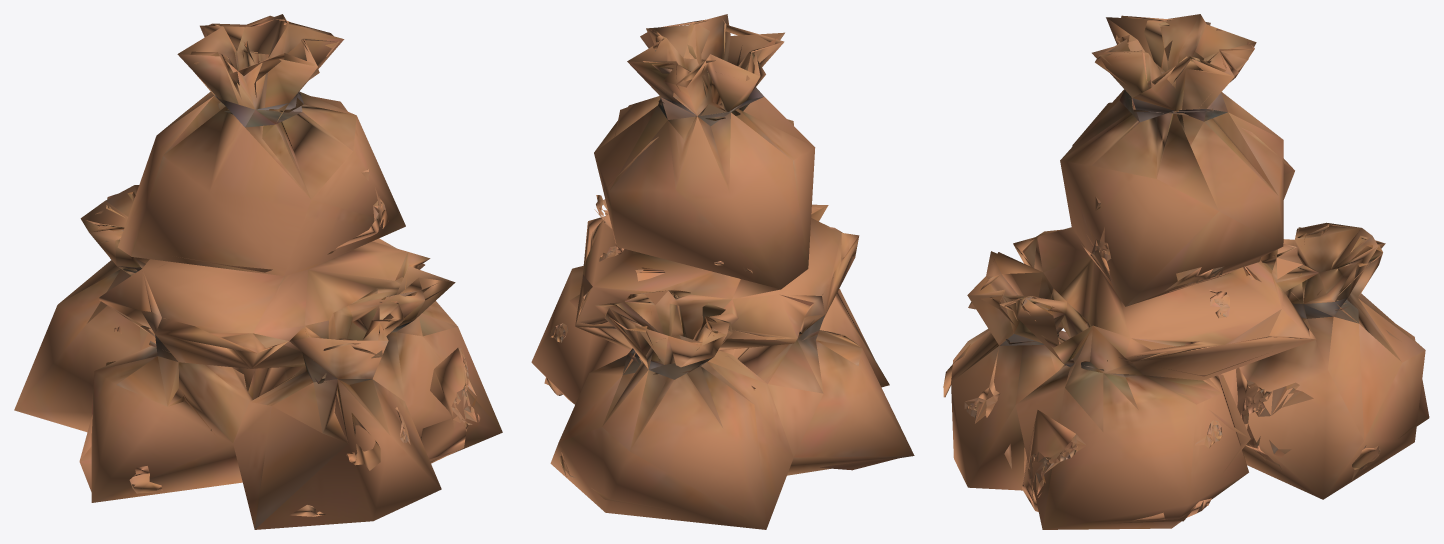
File: lg-mill-sacks.glb
The picture shows the model from 3 angles, left to right: view 1: azimuth 30°, elevation 25°; view 2: azimuth 150°, elevation 25°; view 3: azimuth 270°, elevation 25°; orthographic projection. The views are drawn at different scales.
Parts seen in each view (by area): view 1: geometry_0; view 2: geometry_0; view 3: geometry_0.
Boxes of the visible parts, box(x1,y1,x2,y2) form: geometry_0: box(14, 14, 502, 529); geometry_0: box(531, 14, 914, 529); geometry_0: box(943, 14, 1429, 529).
Size of the model in its own units: 0.9034 by 0.9843 by 1.
Materials: 1 (1 with a texture image).
